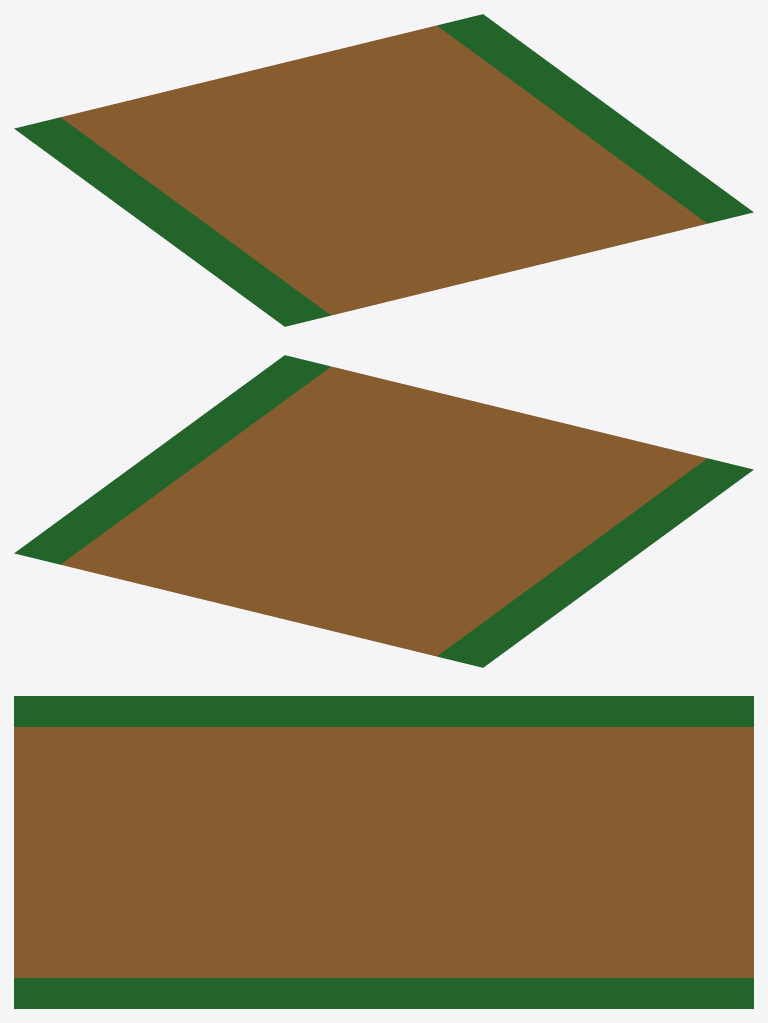
File: path_tileable_low.FBX
The picture shows the model from 3 angles, top to bottom: view 1: azimuth 30°, elevation 25°; view 2: azimuth 150°, elevation 25°; view 3: azimuth 270°, elevation 25°; orthographic projection. The views are drawn at different scales.
Parts seen in each view (by area): view 1: PathPlane_low; view 2: PathPlane_low; view 3: PathPlane_low.
Boxes of the visible parts, x1,y1,x2,y2 form: PathPlane_low: (14, 14, 753, 326); PathPlane_low: (14, 355, 753, 667); PathPlane_low: (14, 696, 753, 1008).
Bounding box in the file's own units: 39.37 × 2.41e-15 × 39.37.
